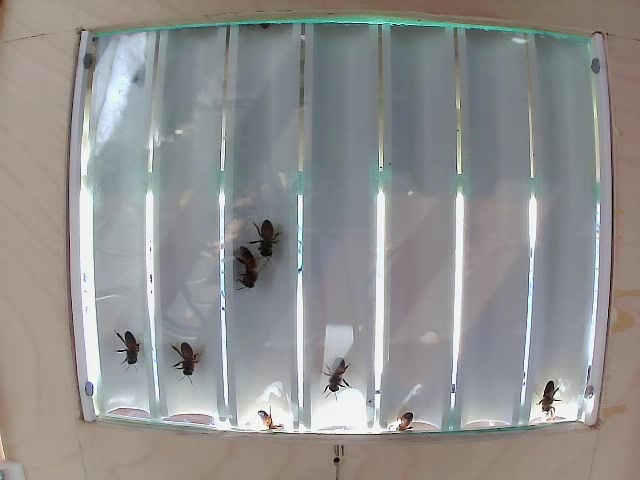bee: (318, 343, 362, 399), (112, 325, 147, 368), (236, 246, 264, 293), (255, 217, 284, 255), (173, 337, 197, 374), (532, 375, 554, 405)
